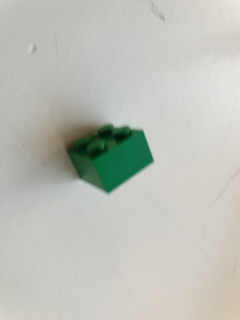2x2 green: (65, 123, 155, 195)
